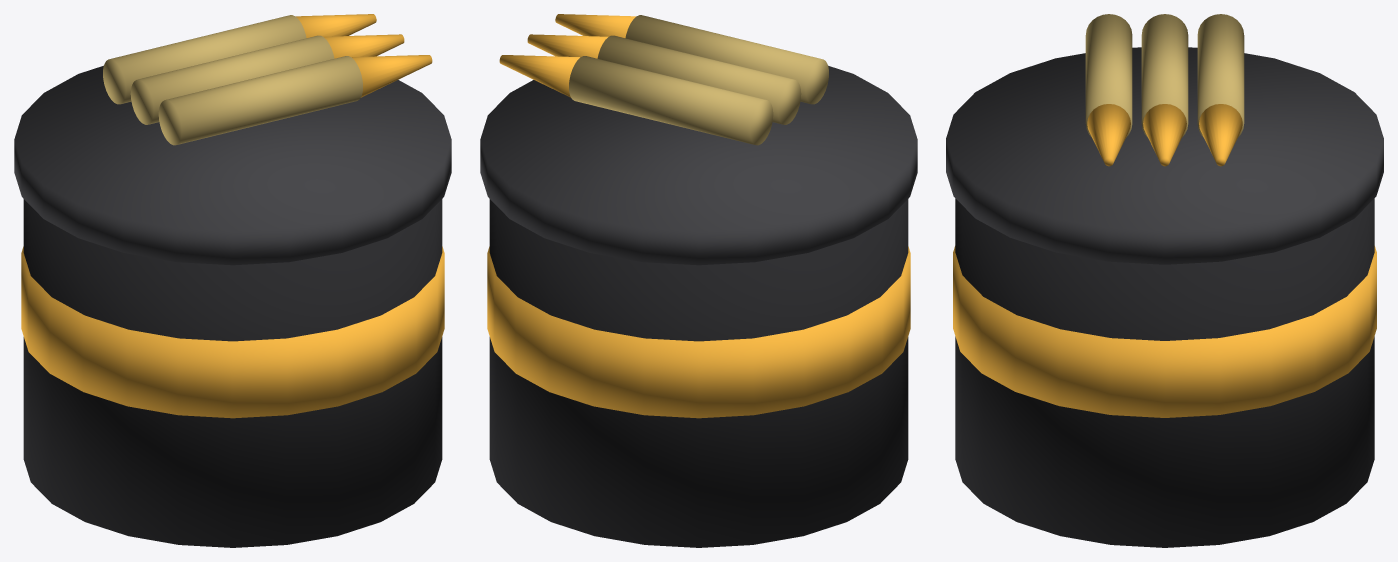
File: SM_AmmoFire.glb
The picture shows the model from 3 angles, left to right: view 1: azimuth 30°, elevation 25°; view 2: azimuth 150°, elevation 25°; view 3: azimuth 270°, elevation 25°; orthographic projection.
Visible parts, largest first — view 1: SM_AmmoFire; view 2: SM_AmmoFire; view 3: SM_AmmoFire.
Boxes of the visible parts, x1=… form: SM_AmmoFire: x1=14, y1=14, x2=451, y2=547; SM_AmmoFire: x1=480, y1=14, x2=917, y2=547; SM_AmmoFire: x1=946, y1=14, x2=1383, y2=547.
Size of the model in its own units: 0.094 by 0.095 by 0.094.
